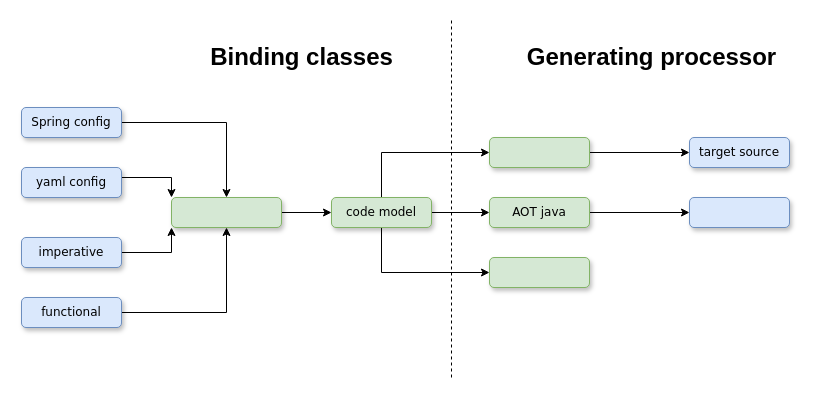
Some shapes in this 813 by 396 pixel diagram are drawn without their labels. Each missing label, with the centre of its shape:
"AOT target" goes at (x=540, y=153).
"interpreted" goes at (x=540, y=273).
"java source" goes at (x=740, y=213).
"Processor config" goes at (x=227, y=213).
